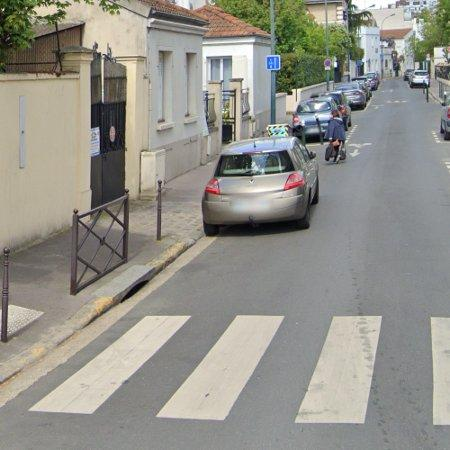crosswalks: (26, 313, 450, 424)
